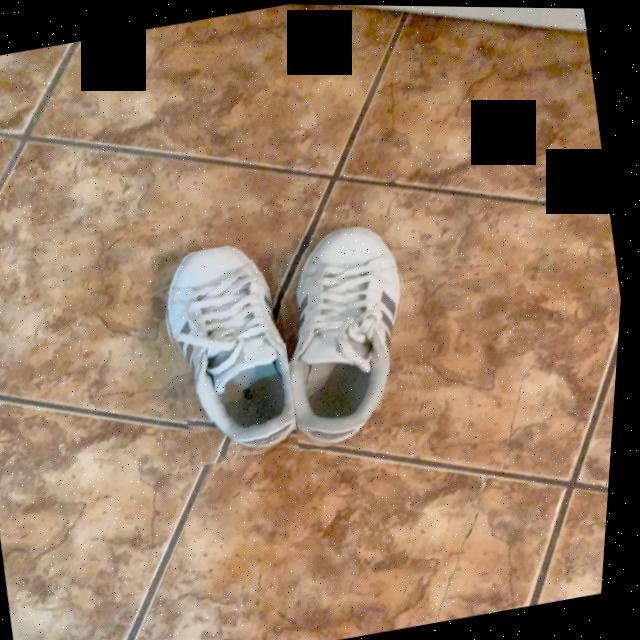shoe: (170, 246, 303, 453), (295, 227, 408, 444)
